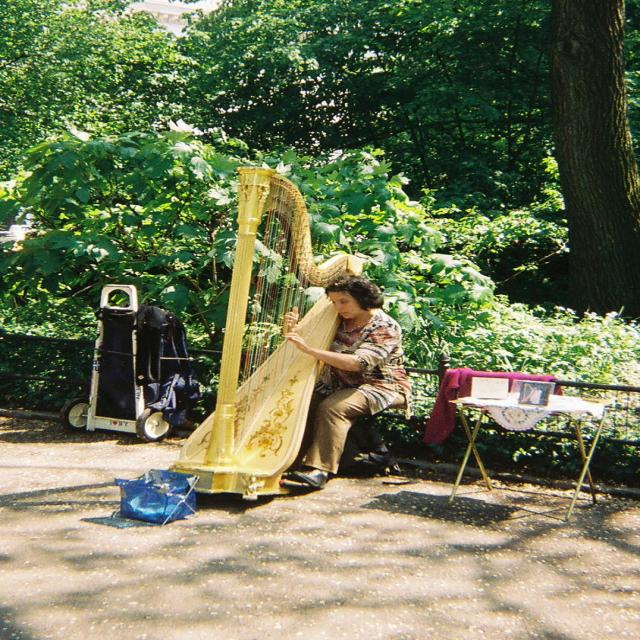harp: (164, 166, 373, 503)
